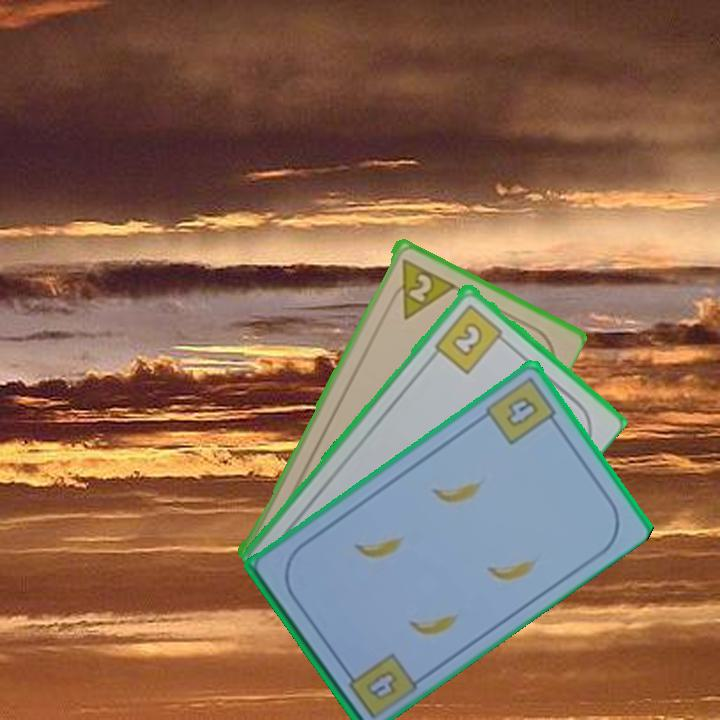2b: (431, 300, 511, 376)
2p: (384, 254, 456, 322)
4b: (482, 373, 562, 448), (362, 665, 401, 703)
